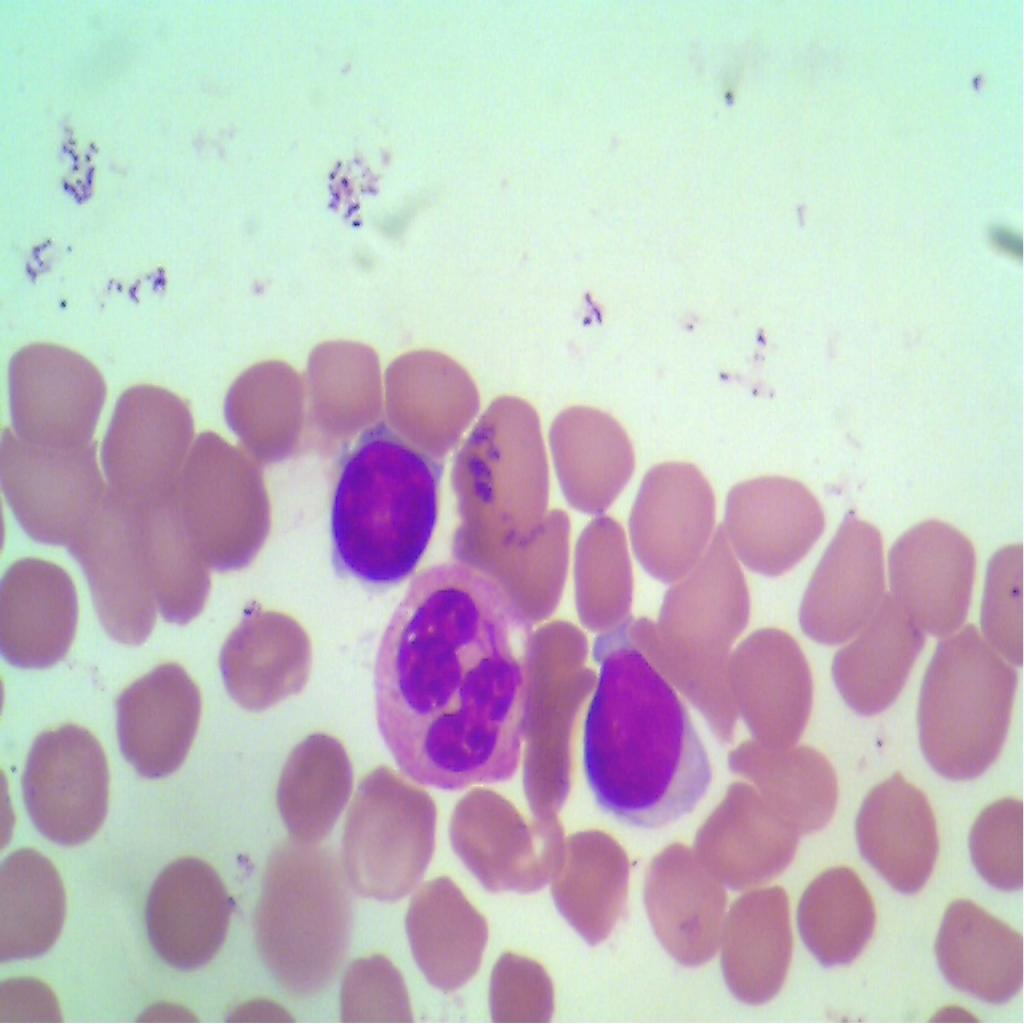Eritrosit: (166, 424, 279, 570), (918, 616, 1020, 774), (208, 592, 323, 718), (249, 838, 356, 972), (10, 726, 118, 852), (796, 500, 890, 637), (476, 491, 570, 627), (0, 425, 106, 544), (449, 388, 541, 522), (534, 394, 646, 504), (720, 452, 818, 577), (114, 668, 211, 794), (78, 495, 166, 631), (379, 340, 479, 459), (852, 771, 946, 897), (734, 724, 846, 829), (0, 342, 106, 452), (344, 774, 438, 897), (886, 508, 984, 625), (453, 788, 561, 892), (718, 881, 806, 1007), (91, 378, 182, 498), (929, 888, 1023, 1004), (279, 324, 378, 434), (134, 486, 218, 614), (150, 847, 232, 977), (546, 825, 631, 947), (408, 879, 496, 992), (838, 604, 918, 728), (794, 864, 884, 971), (704, 794, 804, 890), (0, 557, 84, 671), (558, 500, 629, 634), (646, 840, 723, 958), (266, 724, 348, 832), (526, 608, 598, 729), (628, 462, 709, 568), (659, 542, 743, 642), (664, 621, 744, 725), (0, 851, 74, 959), (734, 631, 808, 735), (230, 361, 302, 452), (483, 945, 566, 1023), (518, 708, 578, 815)
Limfoblast: (582, 648, 723, 835), (329, 444, 438, 586)
Neutrofil: (378, 568, 541, 794)
